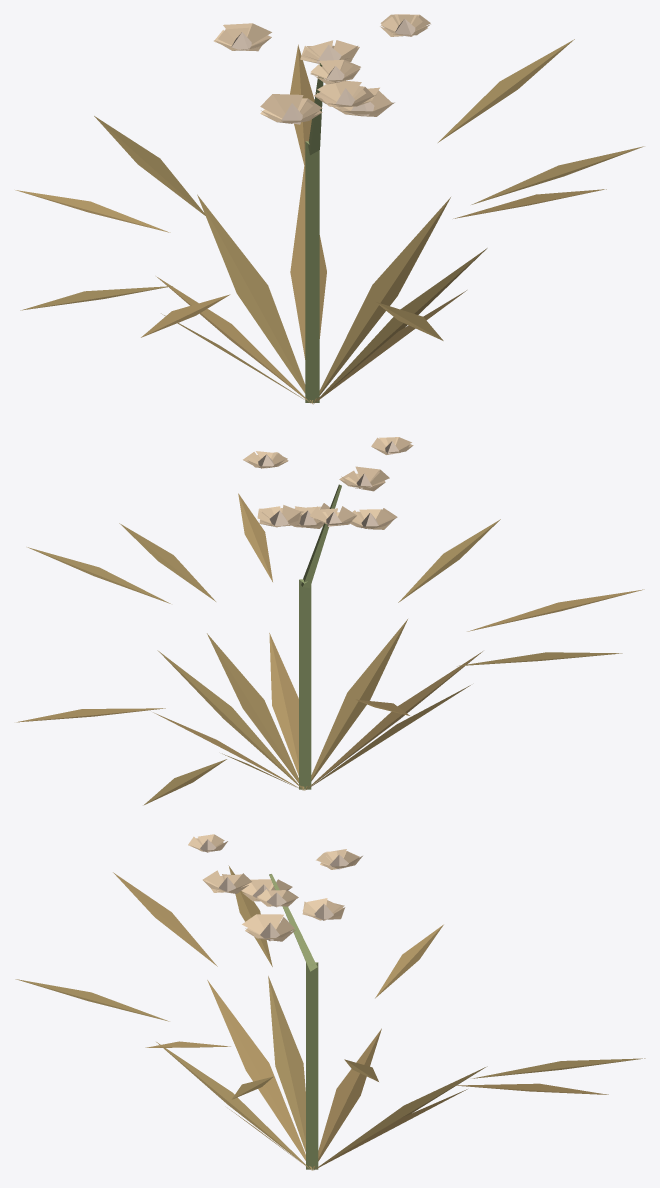
File: hua.lan@flowering__autumn.glb
3 renders of one model, top to bottom at view 1: azimuth 30°, elevation 25°; view 2: azimuth 150°, elevation 25°; view 3: azimuth 270°, elevation 25°, orthographic. The views are drawn at different scales.
Visible parts, largest first — view 1: hua.lan@flowering__autumn; view 2: hua.lan@flowering__autumn; view 3: hua.lan@flowering__autumn.
Part boxes in pixels (x1,y1,x2,y2): hua.lan@flowering__autumn: (15,14,644,404); hua.lan@flowering__autumn: (16,437,644,805); hua.lan@flowering__autumn: (15,834,645,1170).
Size of the model in its own units: 1.35 by 0.7869 by 1.43.
